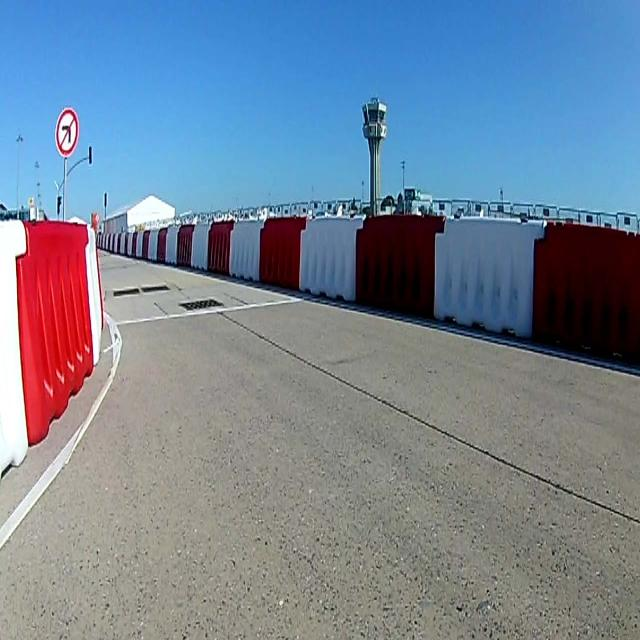soladonulmez: (56, 109, 78, 155)
